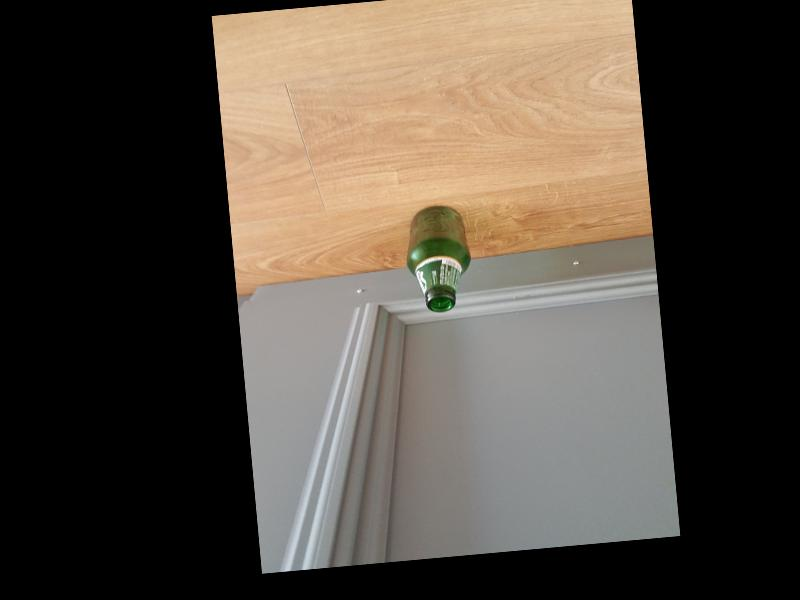Beer: (402, 203, 475, 314)
